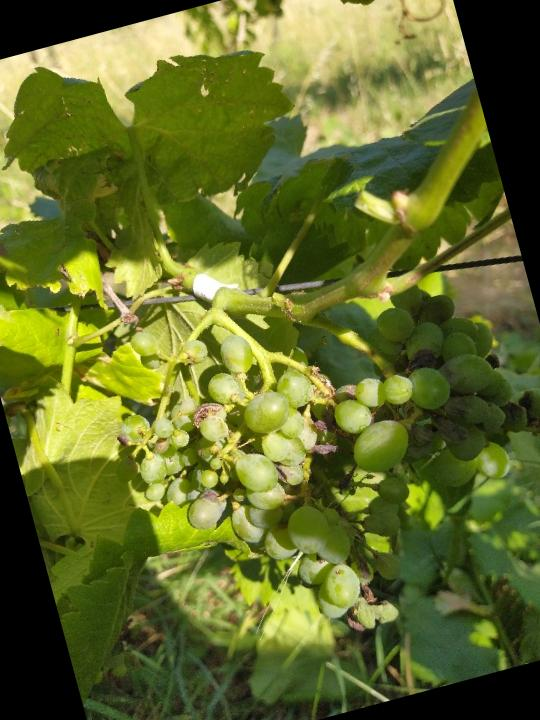grape: (89, 232, 540, 688)
